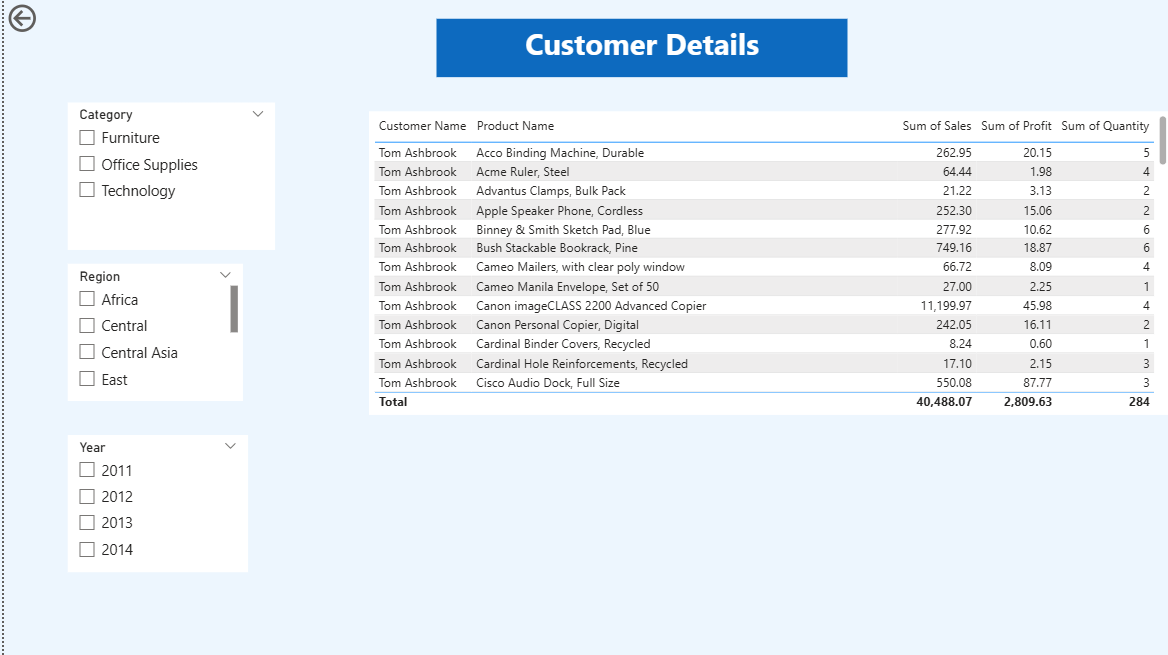

The page's visual inventory and layout, read from the dashboard file:
{"tool":"powerbi","page":{"name":"Customer Details","canvas":[1280,720],"ordinal":4},"visuals":[{"type":"tableEx","fields":{"Values":["cleaned_superstore.Customer Name","cleaned_superstore.Product Name","Sum(cleaned_superstore.Sales)","Sum(cleaned_superstore.Profit)","Sum(cleaned_superstore.Quantity)"]},"box":[400,121.9,879.5,332.9],"z":0},{"type":"actionButton","box":[0,0,100,40],"z":1},{"type":"slicer","fields":{"Values":["cleaned_superstore.Order Date.Variation.Date Hierarchy.Year"]},"box":[69.9,476.7,197.3,150.7],"z":2},{"type":"slicer","fields":{"Values":["cleaned_superstore.Region"]},"box":[69.9,289,191.8,150.7],"z":3},{"type":"slicer","fields":{"Values":["cleaned_superstore.Category"]},"box":[69.9,112.3,227.4,161.6],"z":4},{"type":"textbox","box":[474,20.5,450.7,64.4],"z":5}]}

Visuals, with their boxes on the page's 1280x720 design canvas (x1, y1, x2, y2). These are canvas units, not pixel positions in the 1168x655 screenshot, which may show the page scaled, cropped or inside an application window:
tableEx - cleaned_superstore.Customer Name x cleaned_superstore.Product Name: detection(400, 122, 1280, 455)
actionButton: detection(0, 0, 100, 40)
slicer - cleaned_superstore.Order Date.Variation.Date Hierarchy.Year: detection(70, 477, 267, 627)
slicer - cleaned_superstore.Region: detection(70, 289, 262, 440)
slicer - cleaned_superstore.Category: detection(70, 112, 297, 274)
textbox: detection(474, 20, 925, 85)
